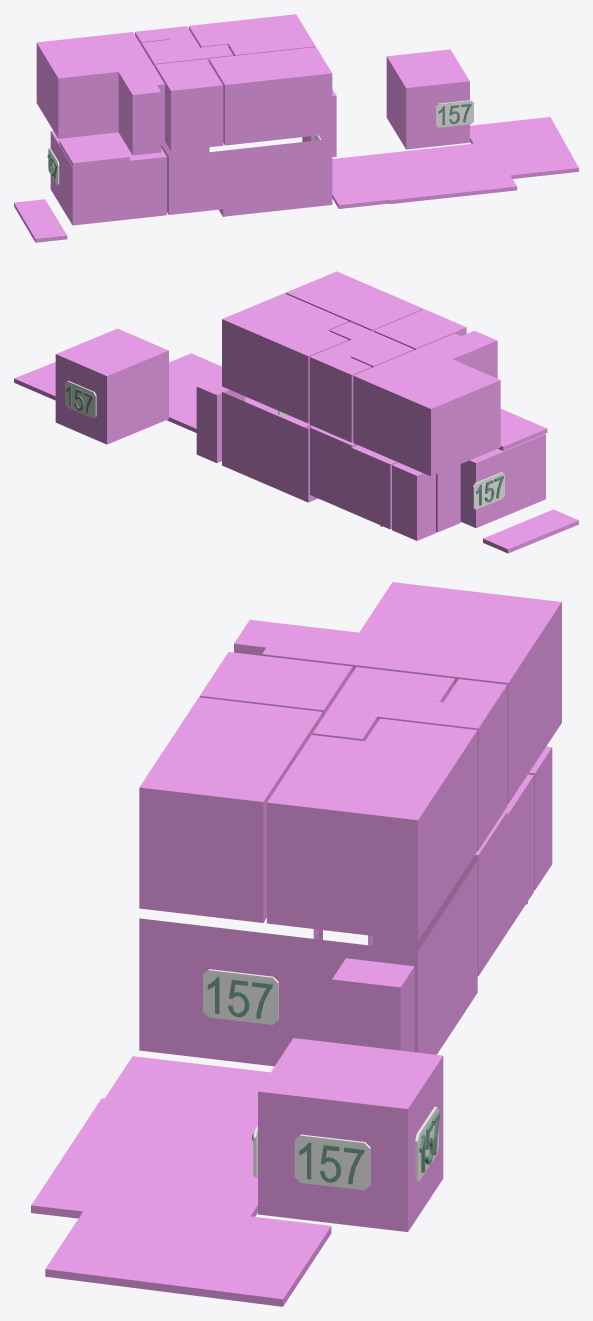
3 views of the same model, one above another, from view 1: azimuth 30°, elevation 25°; view 2: azimuth 150°, elevation 25°; view 3: azimuth 270°, elevation 25° (orthographic). The views are drawn at different scales.
Parts seen in each view (by area): view 1: g_12, g_11, g_1, g_7, g_0, g_5, g_9, g_6, g_13, g_8, g_14, g_26 (+2 smaller); view 2: g_11, g_6, g_5, g_2, g_1, g_0, g_7, g_10, g_12, g_3, g_4, g_9 (+5 smaller); view 3: g_12, g_6, g_1, g_7, g_5, g_11, g_2, g_4, g_10, g_9, g_8, g_30 (+2 smaller).
Boxes of the visible parts, left/top/right/bottom form: g_12: left=332, top=117, right=578, bottom=208; g_11: left=36, top=32, right=164, bottom=155; g_1: left=161, top=139, right=332, bottom=216; g_7: left=209, top=47, right=332, bottom=145; g_0: left=50, top=131, right=166, bottom=225; g_5: left=386, top=49, right=469, bottom=149; g_9: left=155, top=59, right=223, bottom=151; g_6: left=189, top=14, right=315, bottom=55; g_13: left=59, top=134, right=129, bottom=166; g_8: left=141, top=38, right=233, bottom=67; g_14: left=14, top=199, right=67, bottom=242; g_26: left=435, top=100, right=473, bottom=127; g_11: left=353, top=330, right=500, bottom=476; g_6: left=222, top=293, right=348, bottom=423; g_5: left=55, top=328, right=168, bottom=444; g_2: left=310, top=426, right=460, bottom=532; g_1: left=222, top=392, right=317, bottom=502; g_0: left=460, top=434, right=545, bottom=527; g_7: left=285, top=271, right=423, bottom=331; g_10: left=309, top=347, right=371, bottom=442; g_12: left=14, top=353, right=312, bottom=432; g_3: left=392, top=462, right=435, bottom=540; g_4: left=196, top=376, right=245, bottom=462; g_9: left=373, top=309, right=466, bottom=350; g_12: left=31, top=1056, right=331, bottom=1306; g_6: left=267, top=718, right=477, bottom=941; g_1: left=139, top=861, right=477, bottom=1066; g_7: left=139, top=697, right=322, bottom=922; g_5: left=258, top=1038, right=443, bottom=1231; g_11: left=234, top=582, right=561, bottom=803; g_2: left=373, top=774, right=533, bottom=976; g_4: left=332, top=958, right=414, bottom=1052; g_10: left=422, top=679, right=507, bottom=850; g_9: left=199, top=652, right=352, bottom=717; g_8: left=312, top=667, right=454, bottom=740; g_30: left=294, top=1134, right=370, bottom=1190.
Size of the model in its own units: 21.1 by 5.35 by 9.48.
